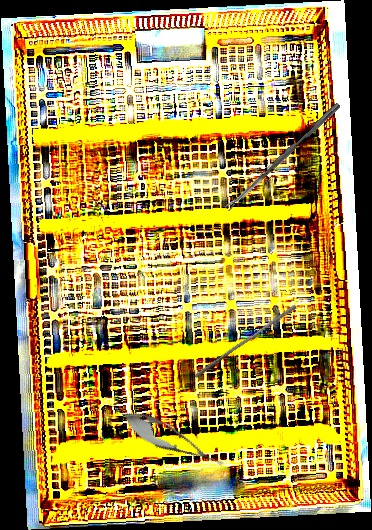Micro Scissor: (115, 402, 231, 478)
Pusher: (193, 300, 298, 383)
Surgical Spoon: (224, 101, 341, 212)
